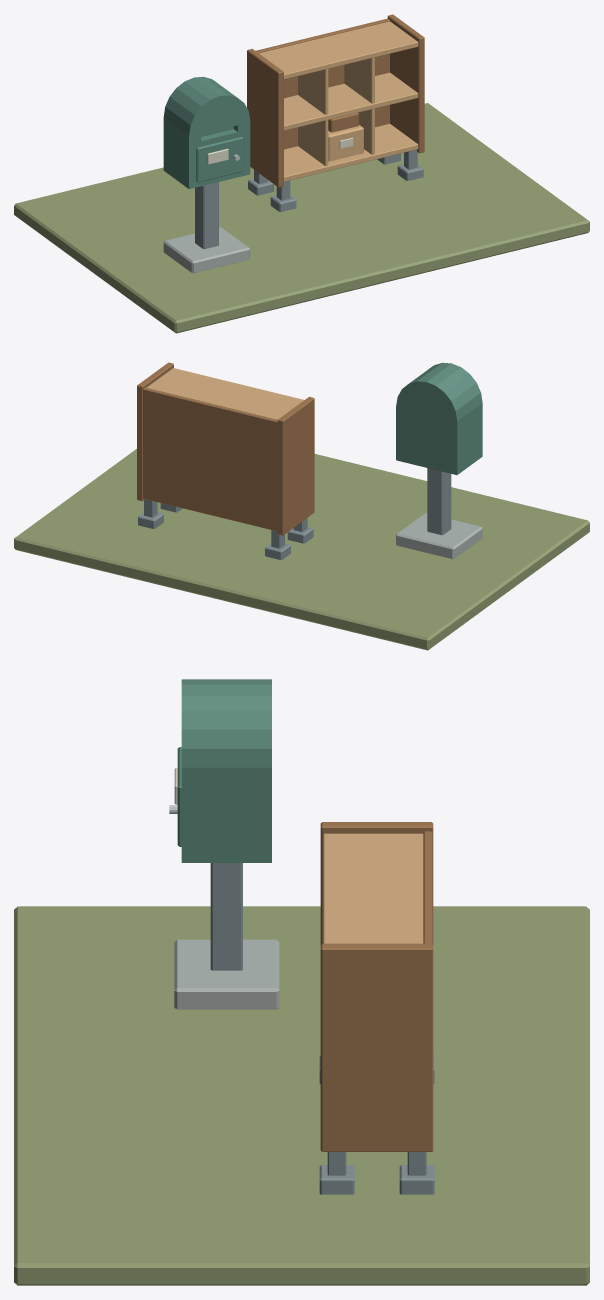
3 renders of one model, top to bottom at view 1: azimuth 30°, elevation 25°; view 2: azimuth 150°, elevation 25°; view 3: azimuth 270°, elevation 25°, orthographic. The views are drawn at different scales.
Visible parts, largest first — view 1: postal-corner-01; view 2: postal-corner-01; view 3: postal-corner-01.
Part boxes in pixels (bbox=[...]): postal-corner-01: bbox=[14, 14, 589, 333]; postal-corner-01: bbox=[14, 362, 589, 650]; postal-corner-01: bbox=[14, 679, 589, 1285].
Bounding box in the file's own units: 3.4 × 1.42 × 2.3.
